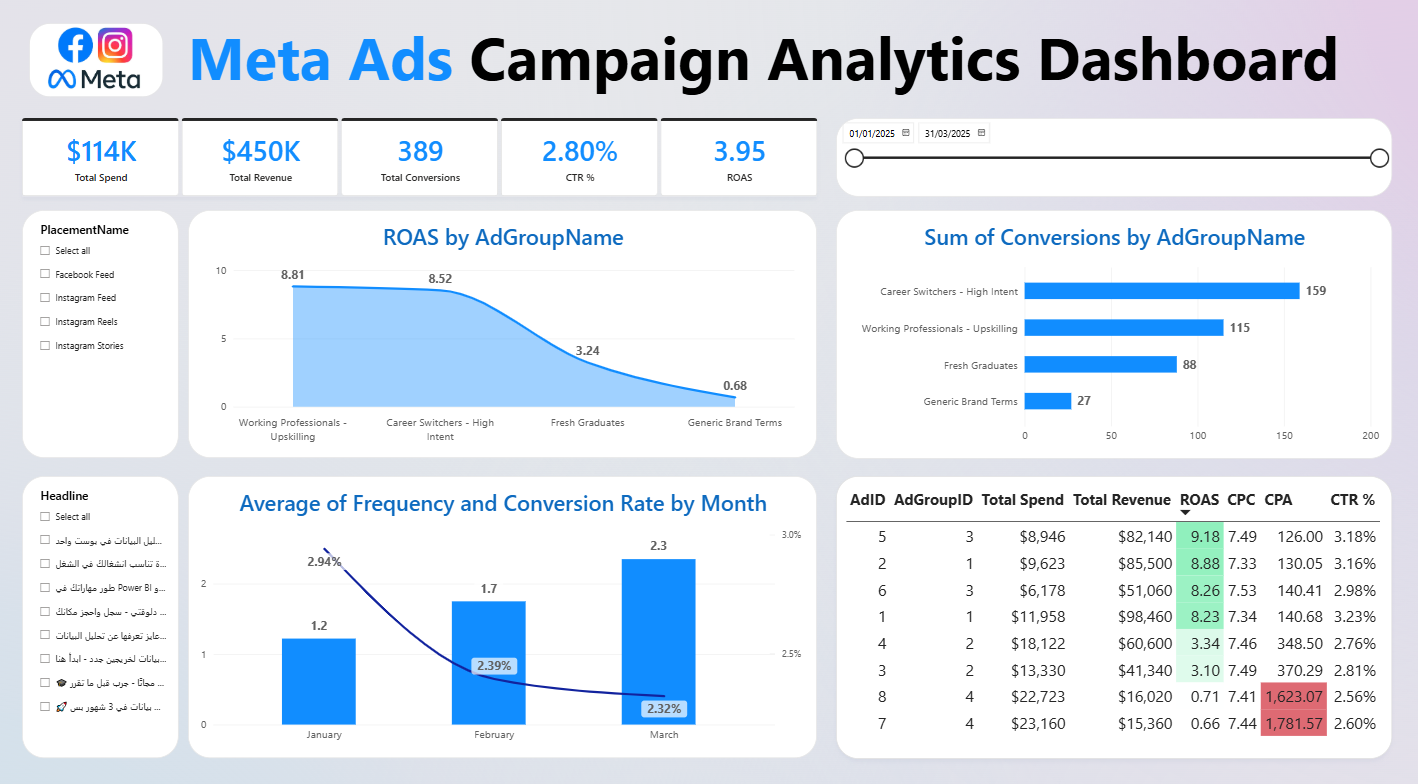

The page's visual inventory and layout, read from the dashboard file:
{"tool":"powerbi","page":{"name":"Dashboard","canvas":[1920,1080],"ordinal":0},"visuals":[{"type":"cardVisual","fields":{"Data":["_Measures.Total Spend","_Measures.Total Revenue","_Measures.Total Conversions","_Measures.CTR %","_Measures.ROAS"]},"box":[29.2,162.5,1071.1,105.6],"z":0},{"type":"areaChart","fields":{"Category":["Campaign_AdGroups.AdGroupName"],"Y":["_Measures.ROAS"]},"box":[253.2,286.8,847,334],"z":1000},{"type":"lineClusteredColumnComboChart","fields":{"Category":["DimDate.Date.Variation.Date Hierarchy.Month","DimDate.Date.Variation.Date Hierarchy.Day"],"Y":["Avg(Placements_Daily_Performance.Frequency)"],"Y2":["_Measures.Conversion Rate"]},"box":[253.2,645,847,379.8],"z":2000},{"type":"clusteredBarChart","fields":{"Category":["Campaign_AdGroups.AdGroupName","Placements.PlacementName"],"Y":["Sum(Placements_Daily_Performance.Conversions)"]},"box":[1125.3,286.2,748.8,334.8],"z":3000},{"type":"tableEx","fields":{"Values":["Ads.AdID","Ads.AdGroupID","_Measures.Total Spend","_Measures.Total Revenue","_Measures.ROAS","_Measures.CPC","_Measures.CPA","_Measures.CTR %"]},"box":[1125.3,644.6,748.8,380.7],"z":4000},{"type":"textbox","box":[252.7,25.3,1574.8,137],"z":5000},{"type":"image","box":[38.9,34.7,180.6,100],"z":6000},{"type":"slicer","fields":{"Values":["DimDate.Date"]},"box":[1125.3,162.5,748.8,105.6],"z":7000},{"type":"slicer","fields":{"Values":["Placements.PlacementName"]},"box":[29.6,286.8,211.4,334],"z":7001},{"type":"slicer","fields":{"Values":["Ads.Headline"]},"box":[29.6,645,211.4,379.8],"z":7002}]}

Visuals, with their boxes in screenshot pixels (x1, y1, x2, y2), scaled from the page's 1920x1080 canvas onto the 1418x784 screenshot:
cardVisual - _Measures.Total Spend x _Measures.Total Revenue: x1=22, y1=118, x2=813, y2=195
areaChart - Campaign_AdGroups.AdGroupName x _Measures.ROAS: x1=187, y1=208, x2=813, y2=451
lineClusteredColumnComboChart - DimDate.Date.Variation.Date Hierarchy.Month x DimDate.Date.Variation.Date Hierarchy.Day: x1=187, y1=468, x2=813, y2=744
clusteredBarChart - Campaign_AdGroups.AdGroupName x Placements.PlacementName: x1=831, y1=208, x2=1384, y2=451
tableEx - Ads.AdID x Ads.AdGroupID: x1=831, y1=468, x2=1384, y2=744
textbox: x1=187, y1=18, x2=1350, y2=118
image: x1=29, y1=25, x2=162, y2=98
slicer - DimDate.Date: x1=831, y1=118, x2=1384, y2=195
slicer - Placements.PlacementName: x1=22, y1=208, x2=178, y2=451
slicer - Ads.Headline: x1=22, y1=468, x2=178, y2=744
